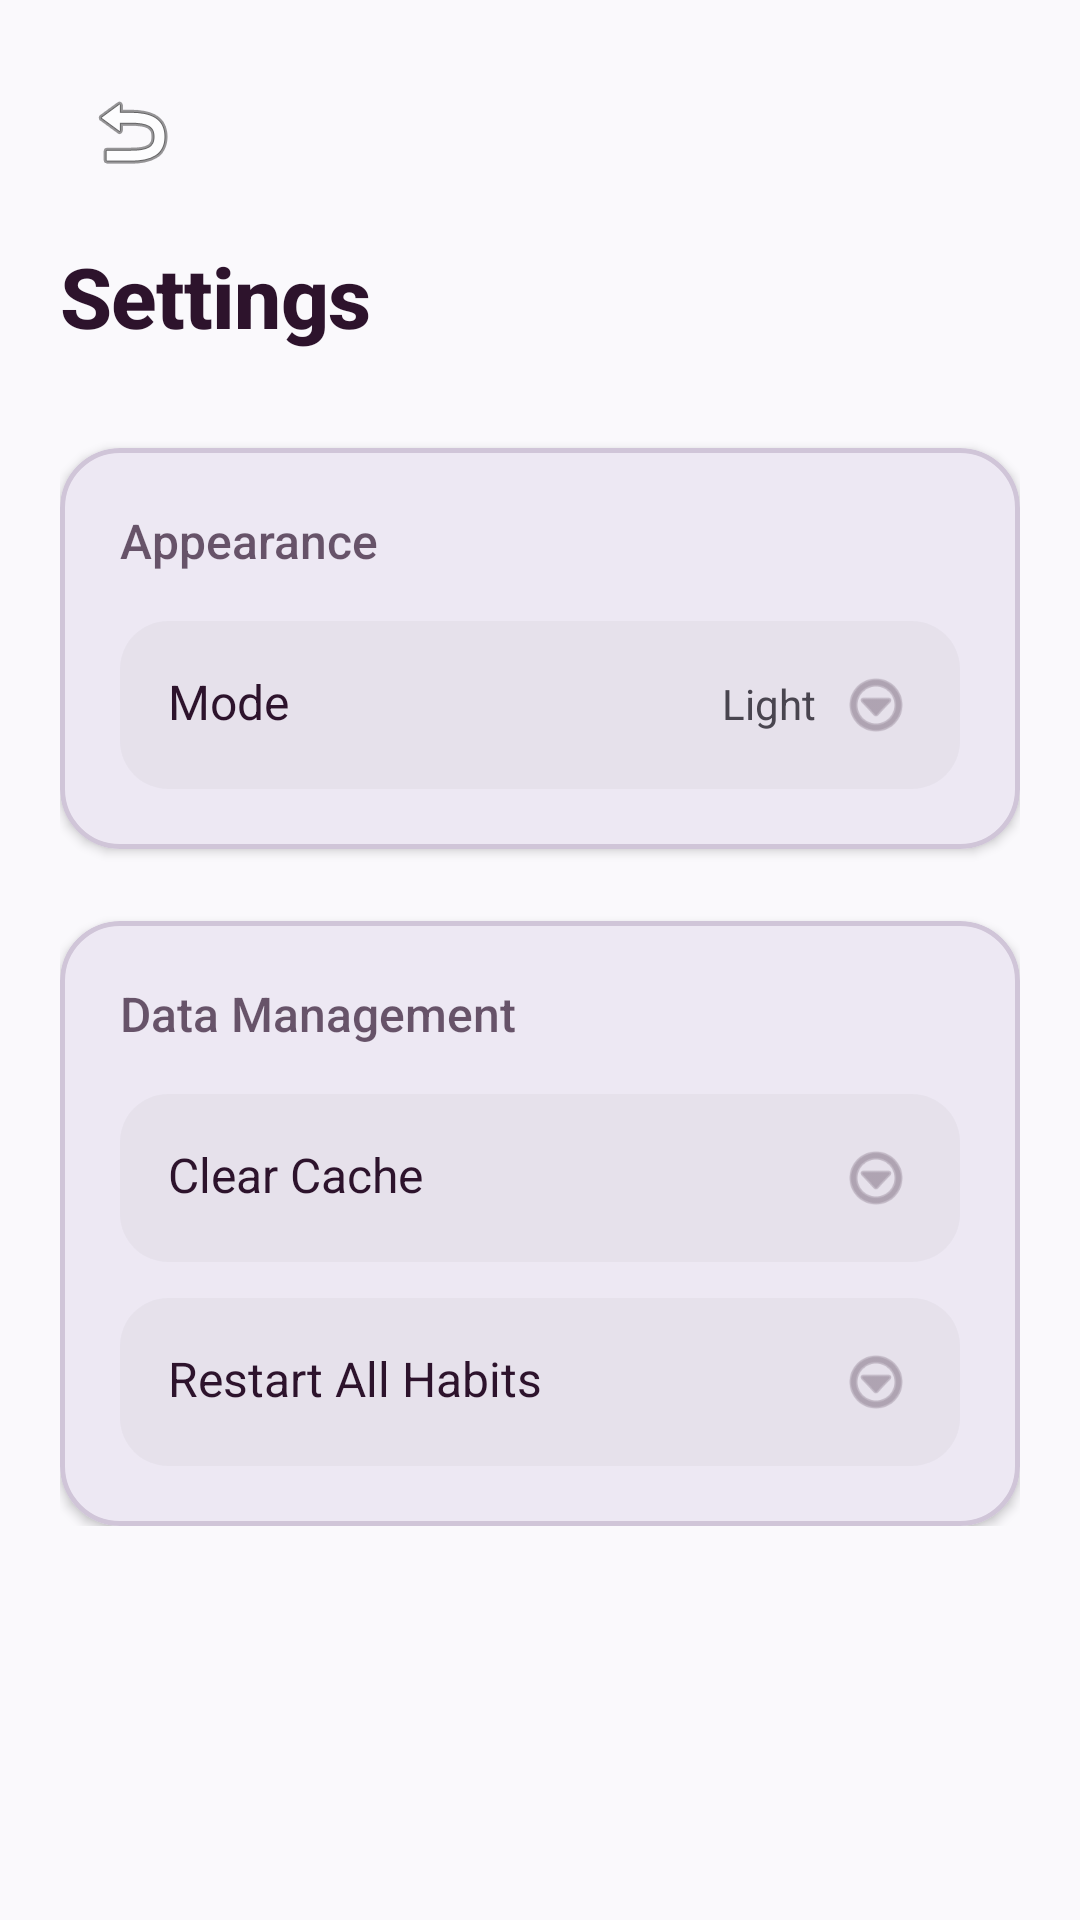

Screen size 1080*1920. Icon name, then its box in pixels as (x1, y1, x2, y2):
Back: (99, 101, 168, 164)
more: (850, 679, 902, 731), (850, 1152, 902, 1204), (850, 1356, 902, 1408)
